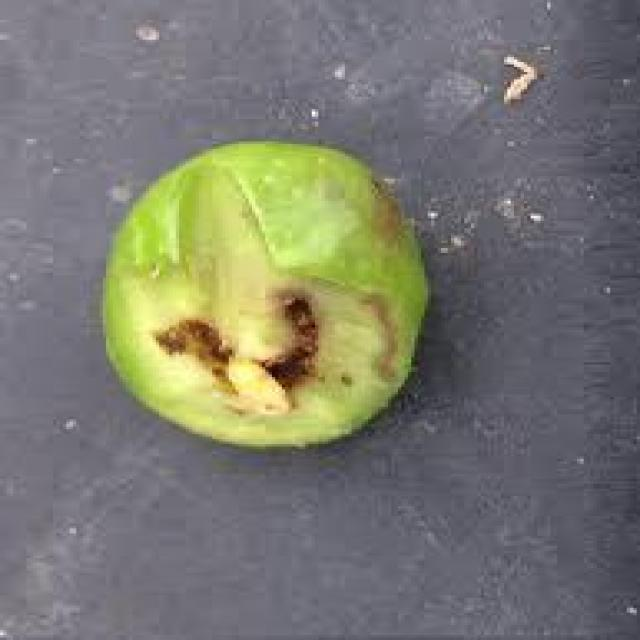Olive Fruit Fly: (106, 141, 424, 447)
